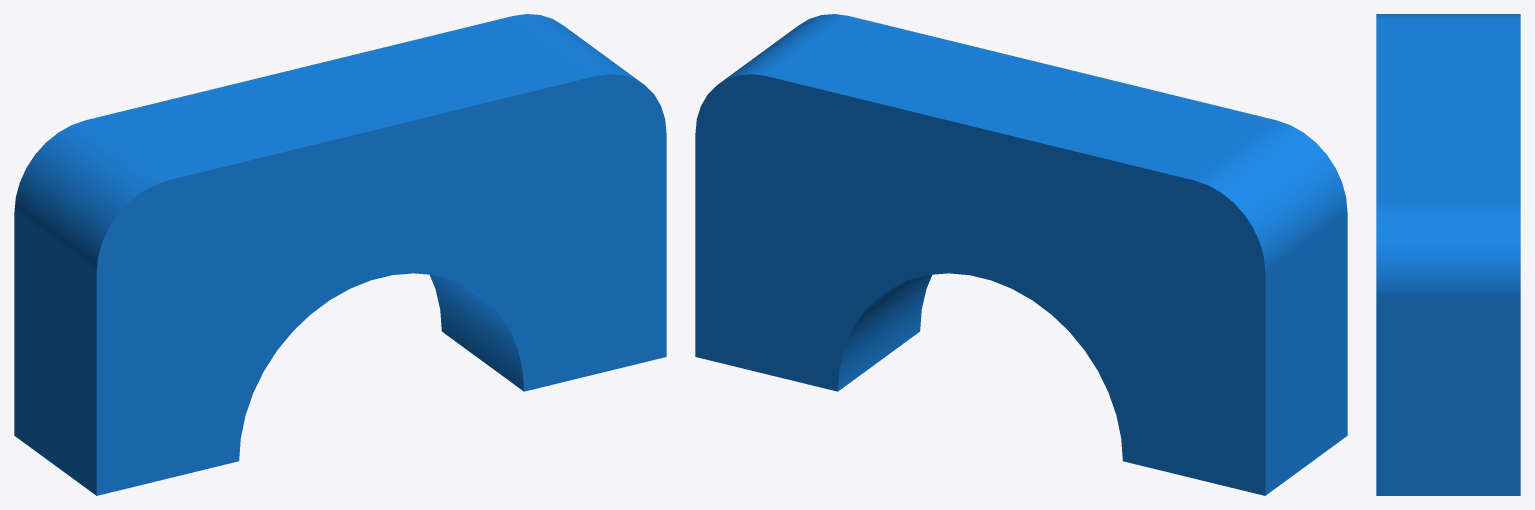
Rendered from anexo_2_-_modelo_01.glb.
The picture shows the model from 3 angles, left to right: view 1: azimuth 30°, elevation 25°; view 2: azimuth 150°, elevation 25°; view 3: azimuth 270°, elevation 25°; orthographic projection. The views are drawn at different scales.
Parts seen in each view (by area): view 1: Anexo 2 - Modelo 01.SLDPRT; view 2: Anexo 2 - Modelo 01.SLDPRT; view 3: Anexo 2 - Modelo 01.SLDPRT.
Boxes of the visible parts, x1,y1,x2,y2 form: Anexo 2 - Modelo 01.SLDPRT: (14, 14, 666, 495); Anexo 2 - Modelo 01.SLDPRT: (695, 14, 1347, 495); Anexo 2 - Modelo 01.SLDPRT: (1376, 14, 1520, 495).
Size of the model in its own units: 0.04 by 0.02 by 0.01.
